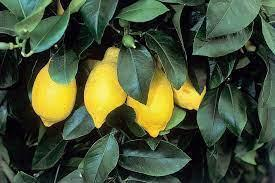lemon: (84, 47, 127, 128), (32, 56, 76, 127), (128, 70, 174, 137), (173, 80, 206, 110)
